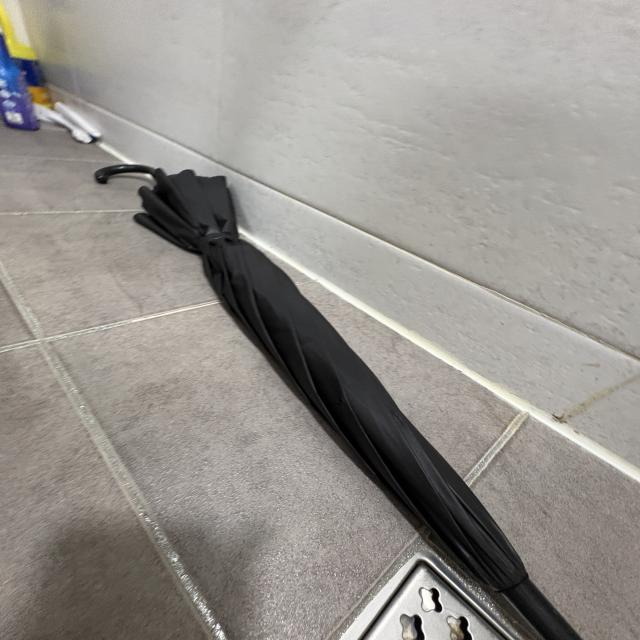umbrella: (95, 162, 578, 640)
